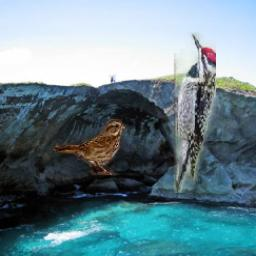Sparrow: (54, 117, 126, 175)
Woodpecker: (174, 33, 216, 194)
